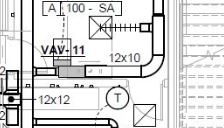VAV: (51, 58, 86, 82)
